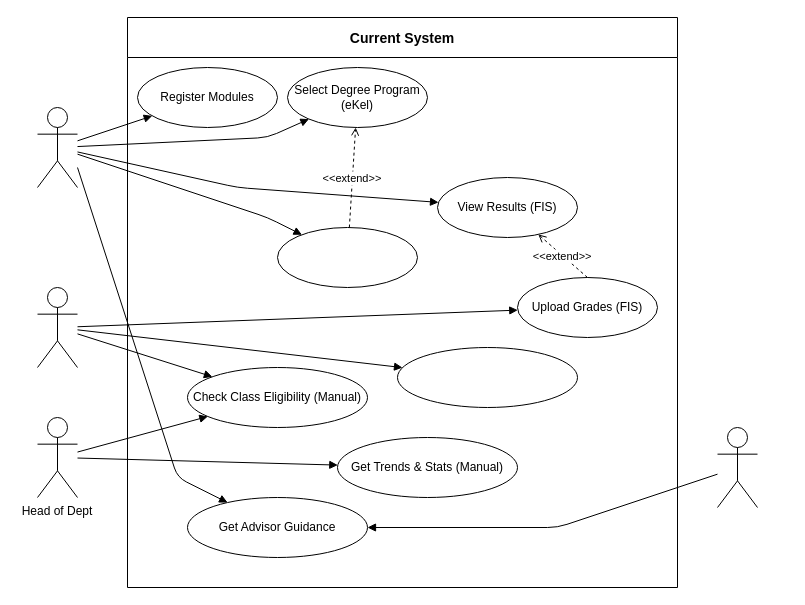
Some shapes in this 805 by 605 pixel diagram are drawn without their labels. Here are the shapes that lost their labels. From the top down, the centre of each, then its label:
At [57,147]: "Students".
At [347,257]: "Select Specialization (eKel)".
At [57,327]: "Academic Staff".
At [487,377]: "Get Module Stats (Manual)".
At [737,467]: "Academic Advisors".
